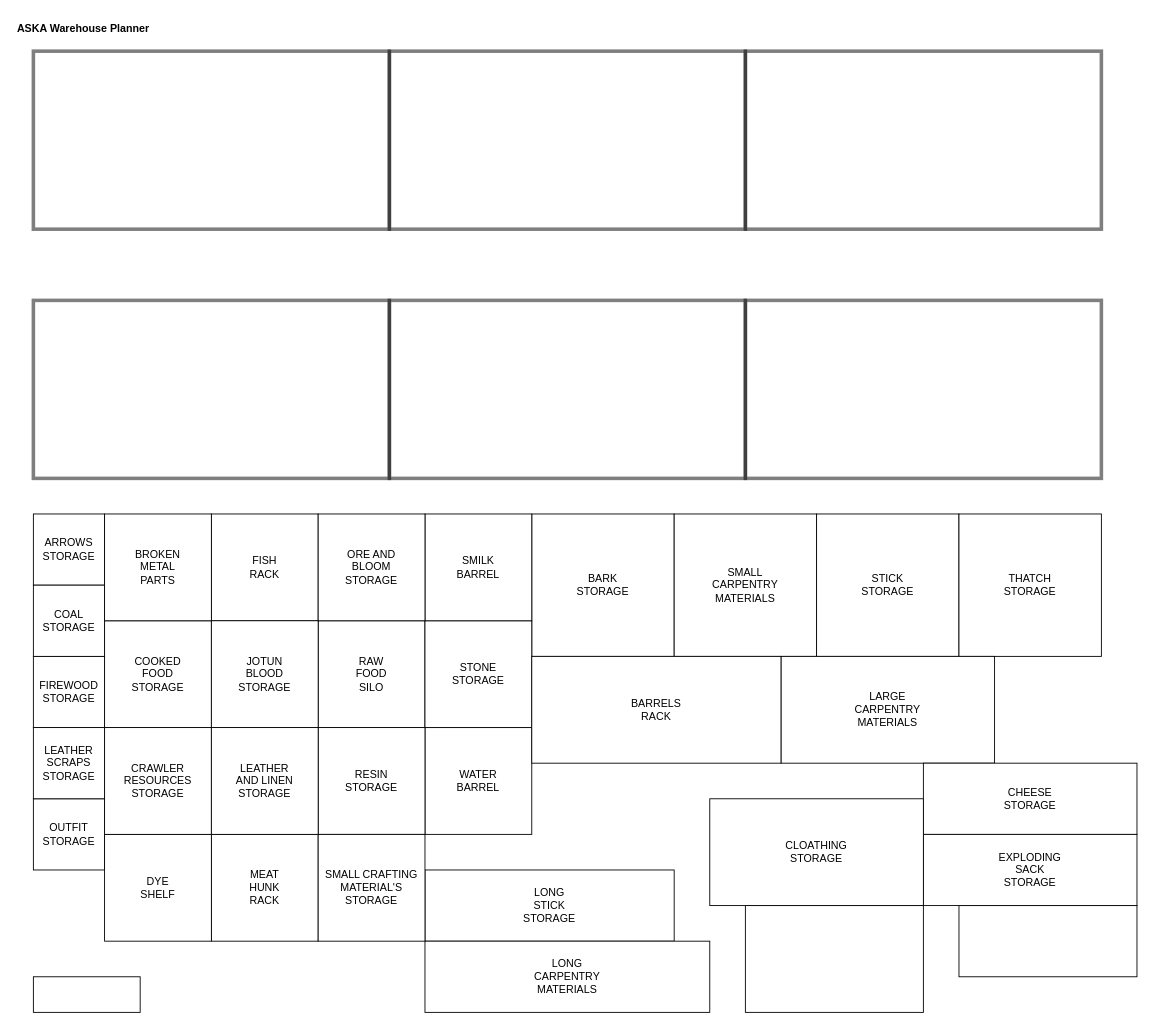
This 1153x1028 diagram has some shape labels left out. The centre of each missing label's shape, as x and y in pixels:
"LOG STORAGE" goes at (833,958).
"SEED STORAGE" goes at (86,994).
"WEAPONS AND TOOLS RACK" goes at (1047,941).
